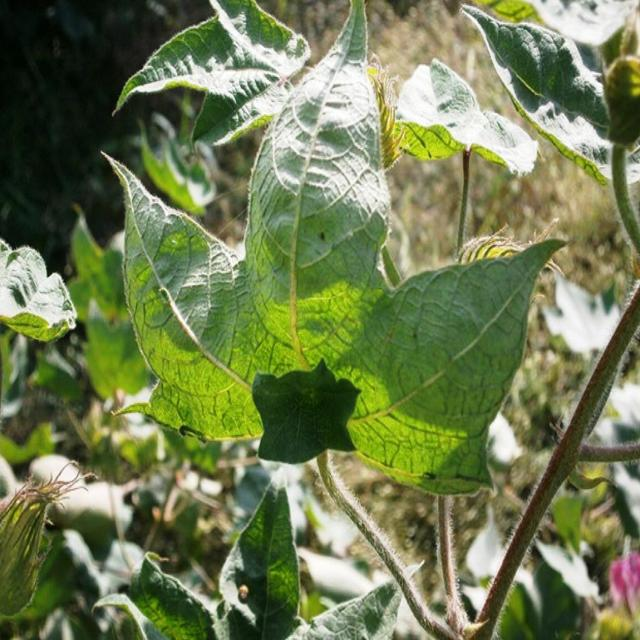Leaf Curl Virus: (134, 158, 459, 442)
